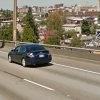Car: (4, 38, 56, 77)
